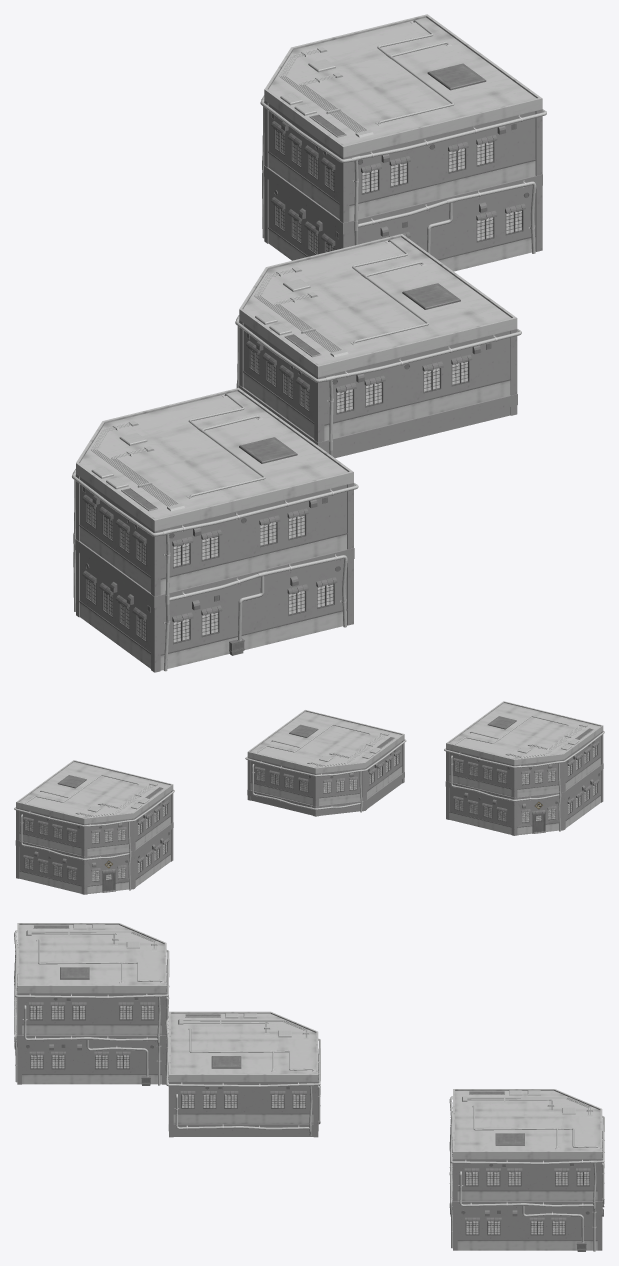
File: MERGED_SM_ENV_KNVLLG_CommonBuilding_D_1.mo.fbx
3 renders of one model, top to bottom at view 1: azimuth 30°, elevation 25°; view 2: azimuth 150°, elevation 25°; view 3: azimuth 270°, elevation 25°, orthographic. The views are drawn at different scales.
Parts seen in each view (by area): view 1: MERGED_SM_ENV_KNVLLG_CommonBuilding_D_1.mo; view 2: MERGED_SM_ENV_KNVLLG_CommonBuilding_D_1.mo; view 3: MERGED_SM_ENV_KNVLLG_CommonBuilding_D_1.mo.
Part boxes in pixels (x1,y1,x2,y2): MERGED_SM_ENV_KNVLLG_CommonBuilding_D_1.mo: (72,14,546,672); MERGED_SM_ENV_KNVLLG_CommonBuilding_D_1.mo: (14,701,604,894); MERGED_SM_ENV_KNVLLG_CommonBuilding_D_1.mo: (14,923,604,1251).
Size of the model in its own units: 70.57 by 14.2 by 75.98.
